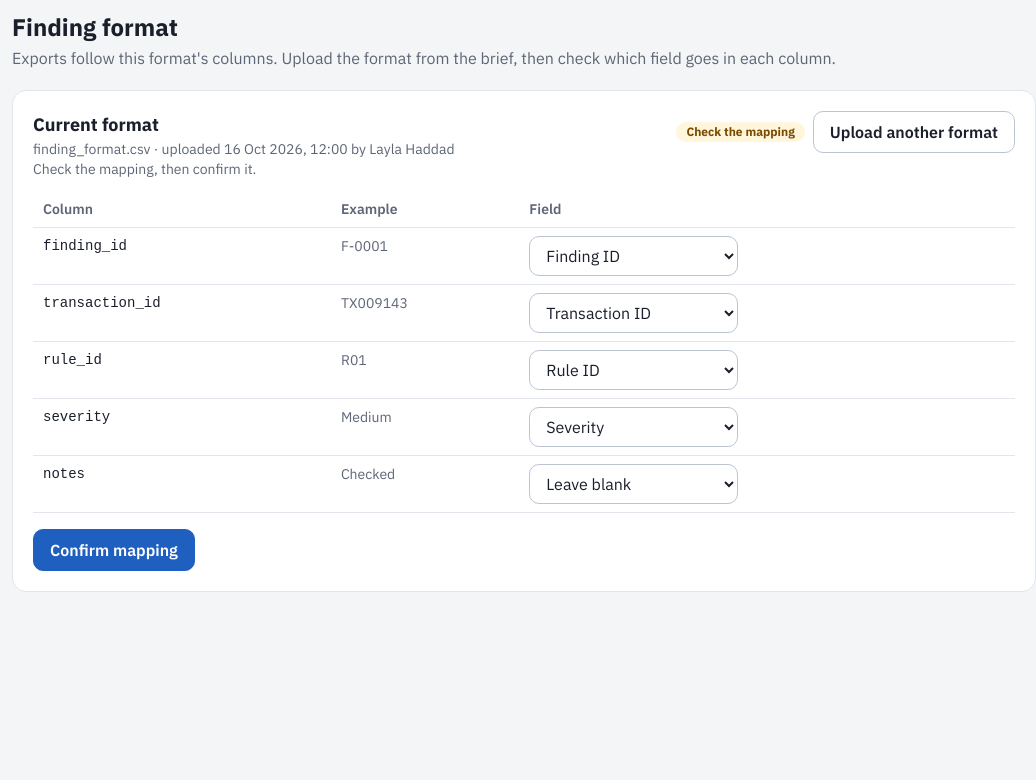
Test case: FindingFormatPage › confirms the mapping the admin settles on
This screenshot has width=1036, height=780.
Select "Explanation (English)" in the dropdown named "Field for notes" at (634, 484), box [529, 464, 738, 504]
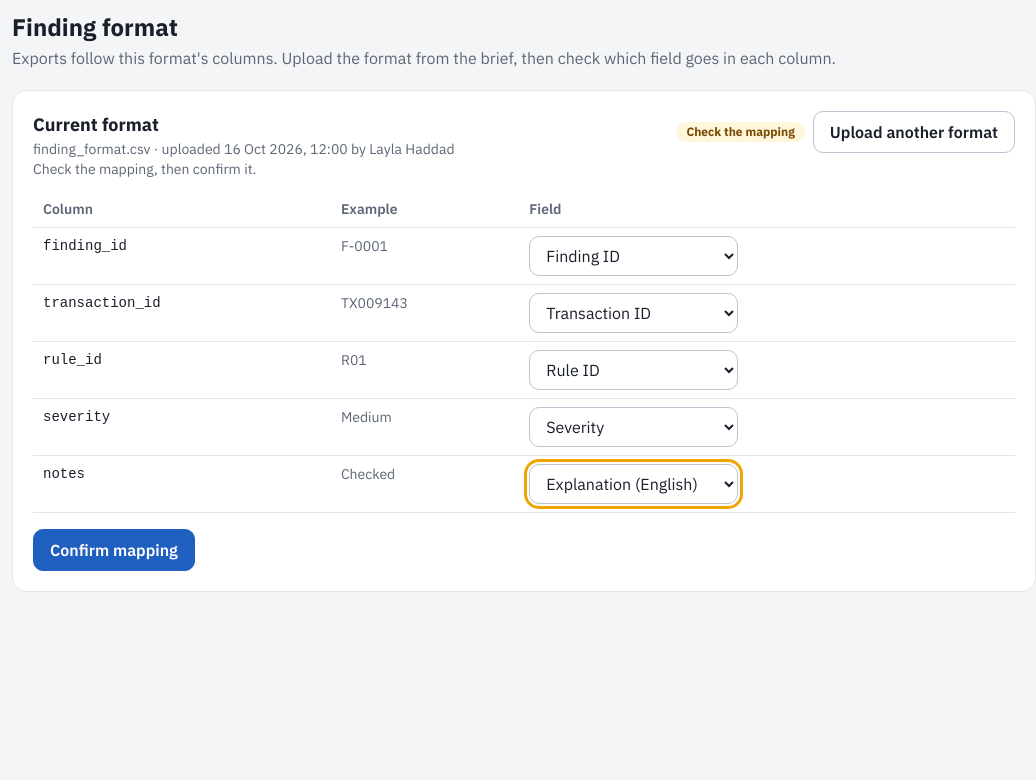
Click the button "Confirm mapping" at (114, 550), box [33, 529, 195, 571]
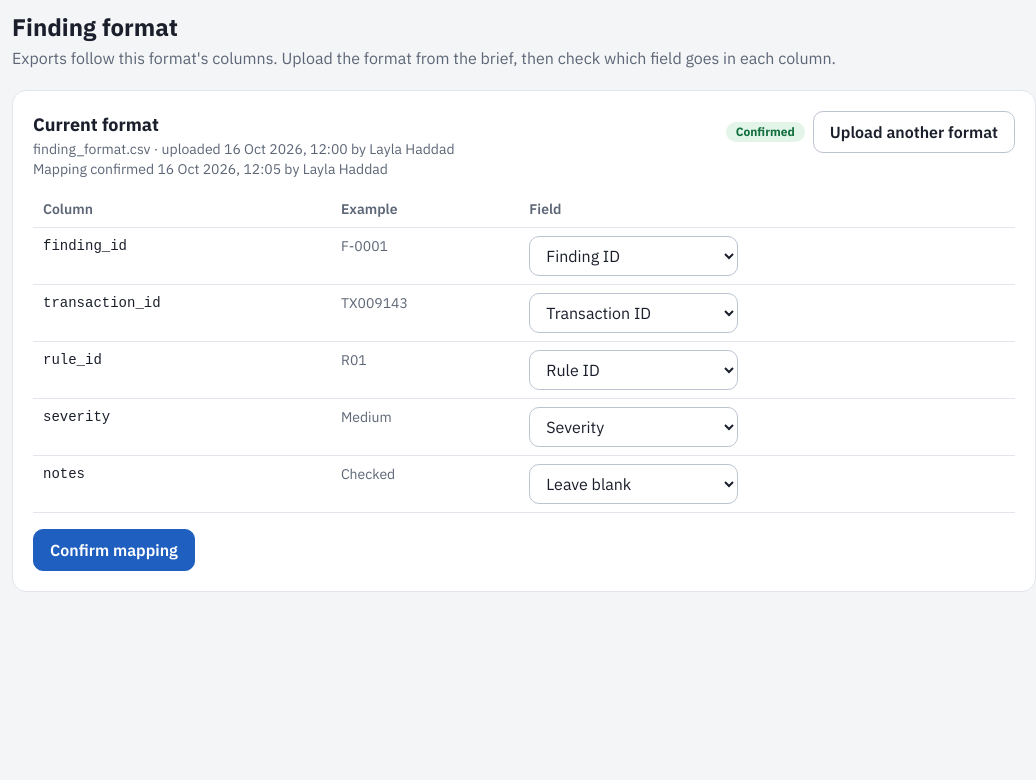
Now the text "Confirmed" is shown, box [726, 122, 805, 142]
